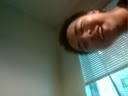window: (0, 9, 35, 96), (48, 83, 75, 96), (46, 44, 69, 57), (102, 91, 119, 96), (100, 62, 105, 69)
